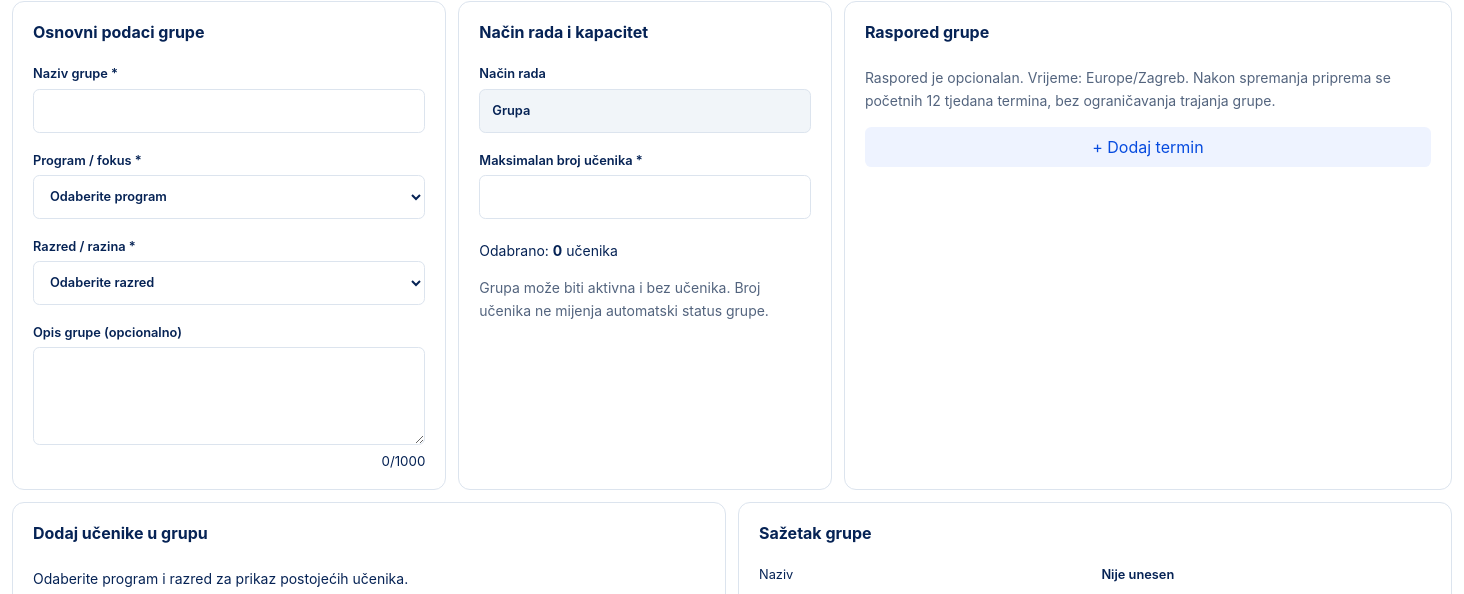
group creation › retains selection across pages and enforces capacity
Select "Matematika" in the dropdown labelled "Program / fokus *" at (229, 197), box x1=33 y1=175 x2=425 y2=219
Select "Sedmi razred" in the dropdown labelled "Razred / razina *" at (229, 283), box x1=33 y1=261 x2=425 y2=305
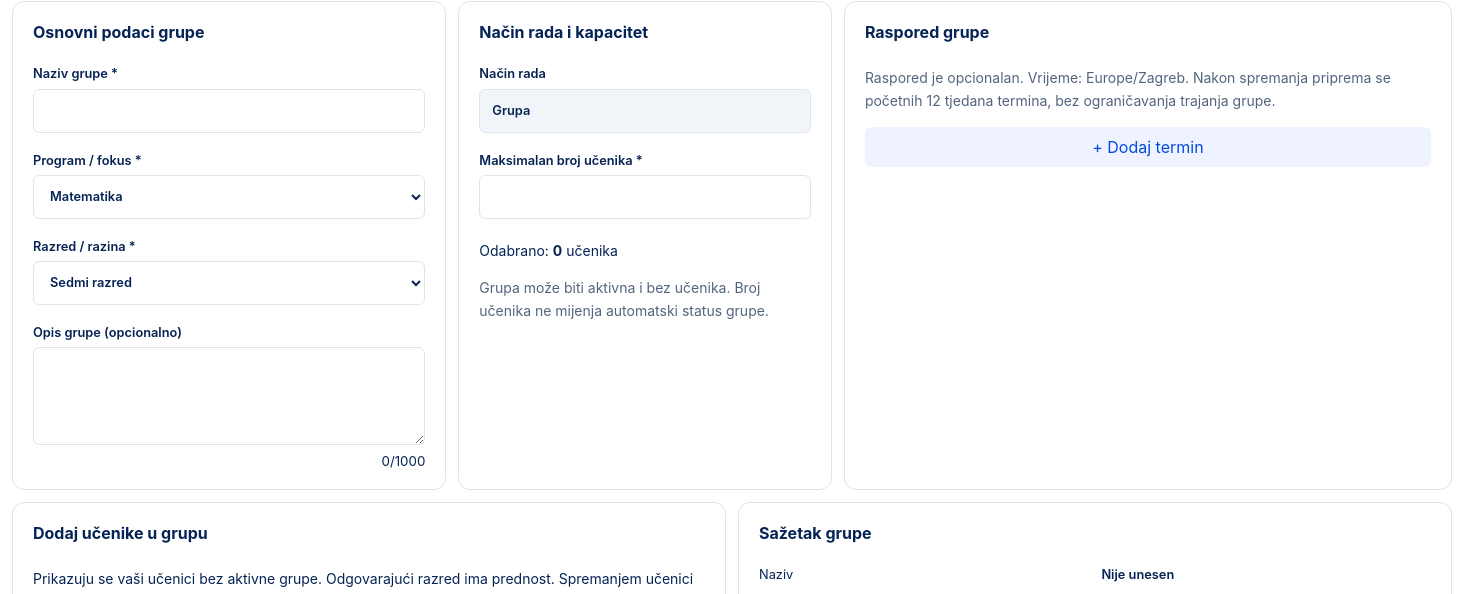
Type "1" into the number field labelled "Maksimalan broj učenika *".
click(645, 197); type("1")  # box x1=479 y1=175 x2=811 y2=219
(page scrolled)
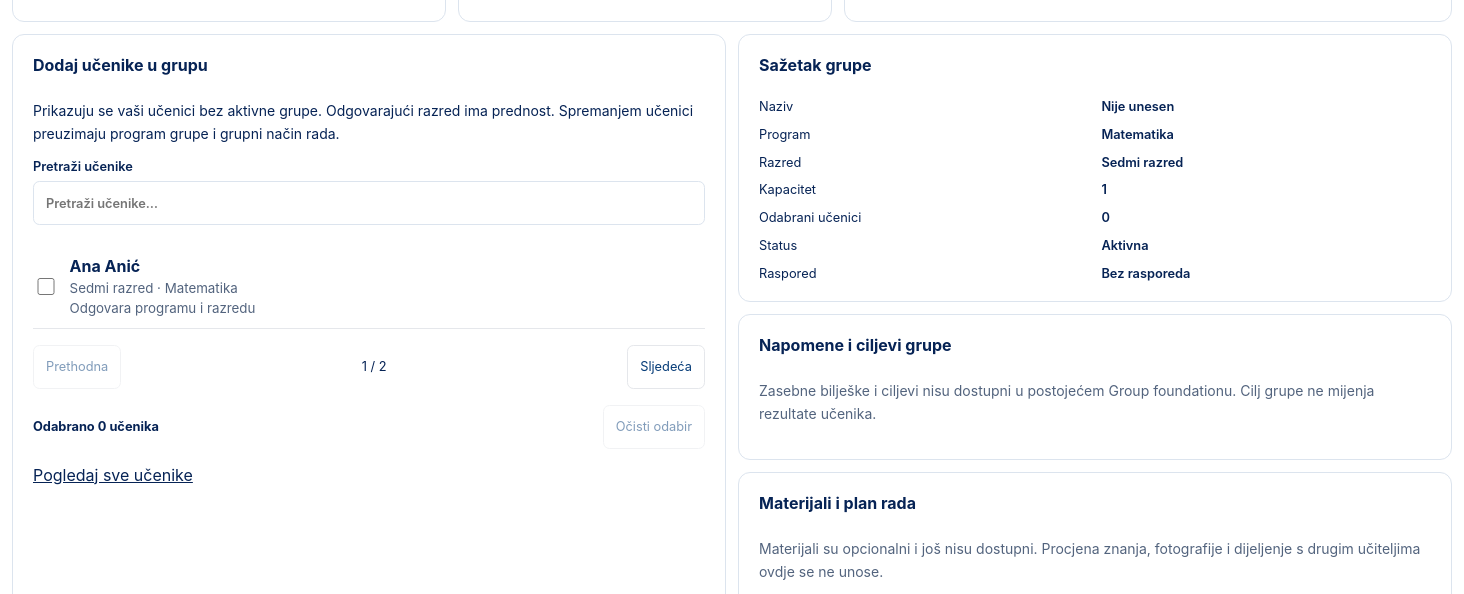
Click the checkbox labelled "Ana Anić".
click(46, 286)  # box x1=37 y1=278 x2=55 y2=295
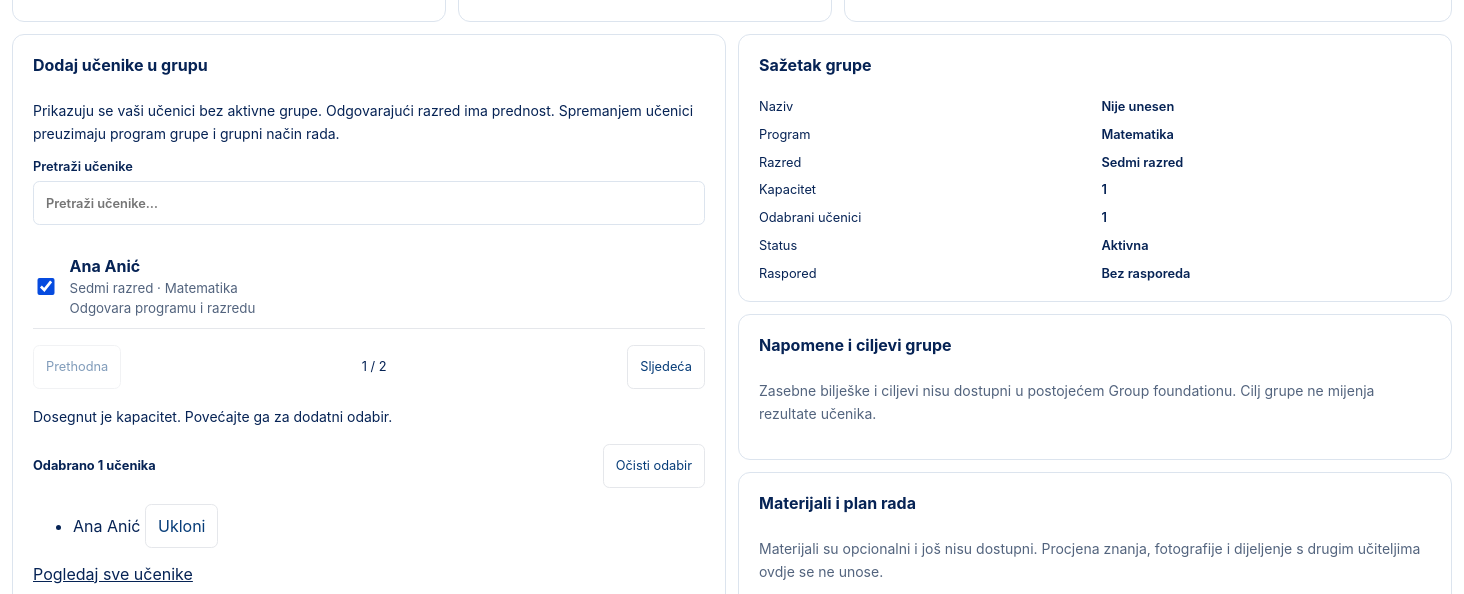
Click the button "Sljedeća".
click(666, 367)  # box x1=627 y1=345 x2=705 y2=389
(page scrolled)
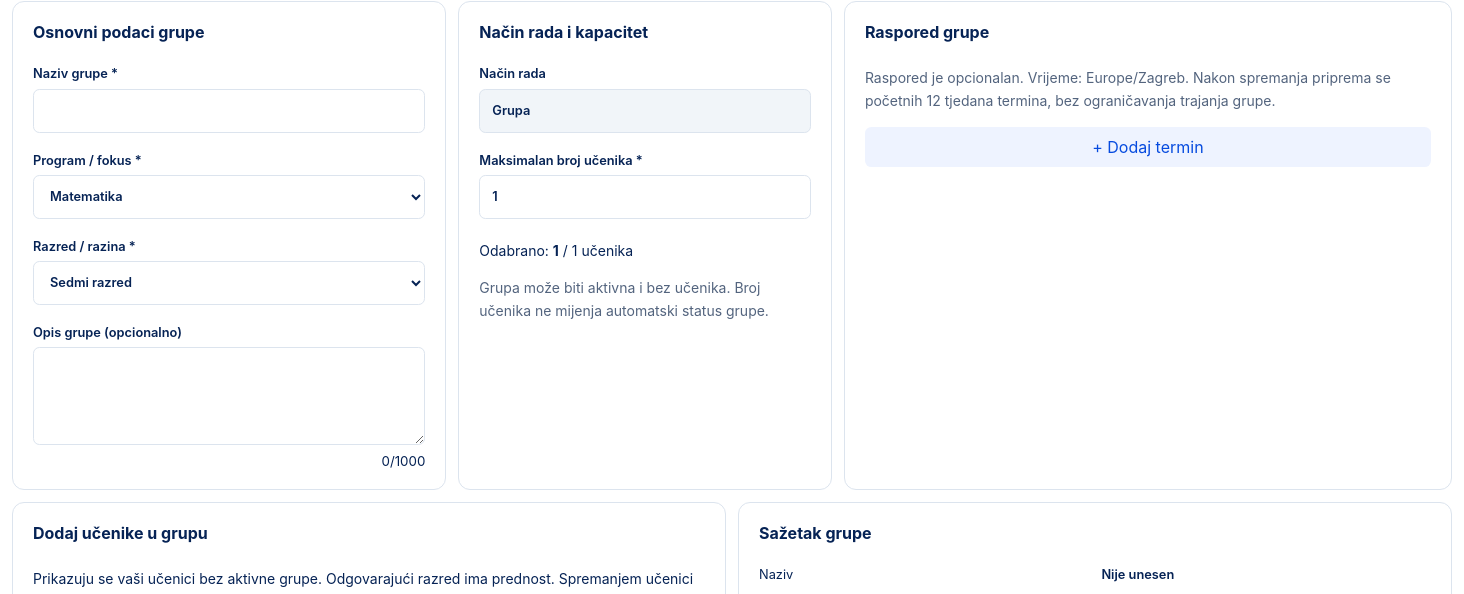
Replace the text in the number field labelled "Maksimalan broj učenika *" with "0" at (645, 197), box x1=479 y1=175 x2=811 y2=219
(page scrolled)
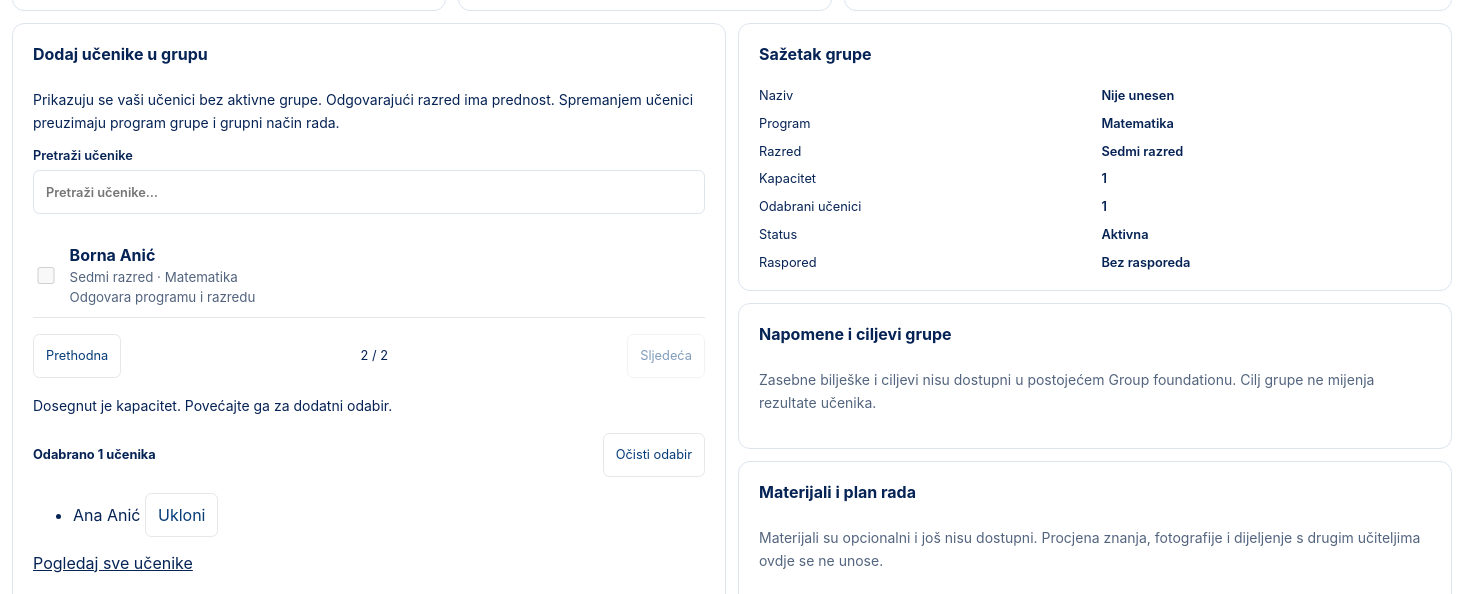
Click the button with aria-label "Ukloni odabir Ana Anić".
click(182, 515)  # box x1=145 y1=493 x2=218 y2=537
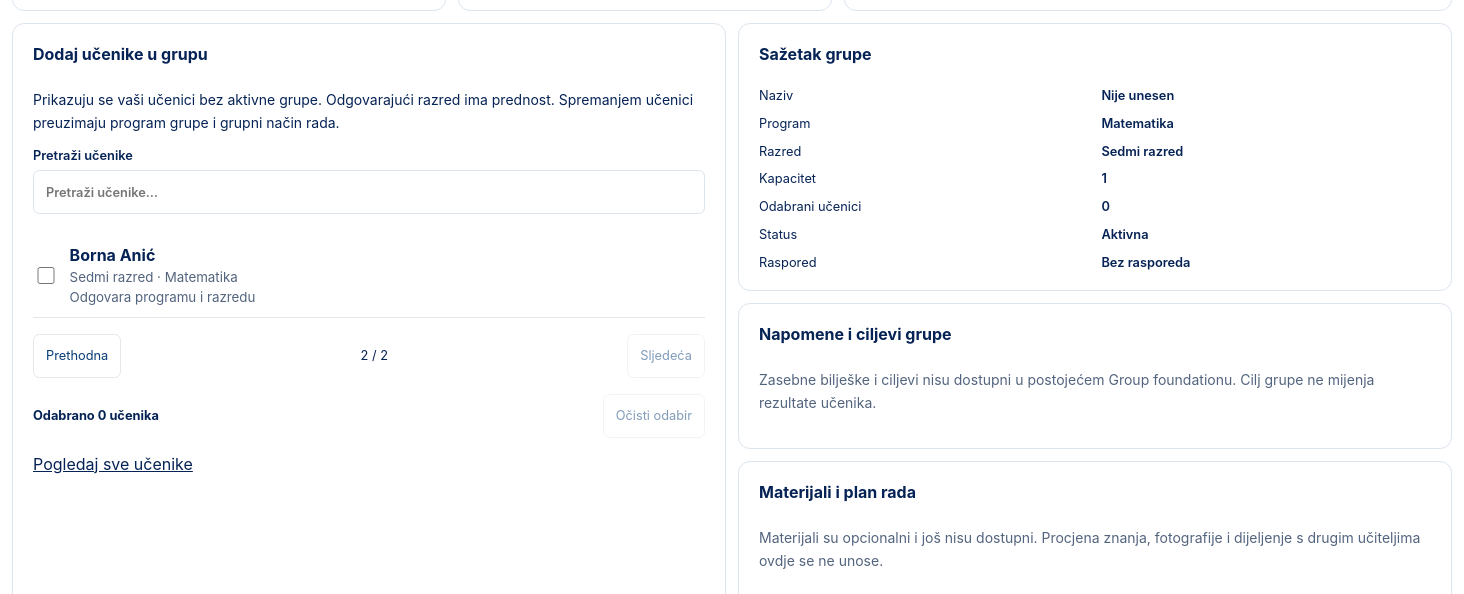
Expected: the checkbox labelled "Borna Anić" is enabled, x1=37 y1=267 x2=55 y2=284
